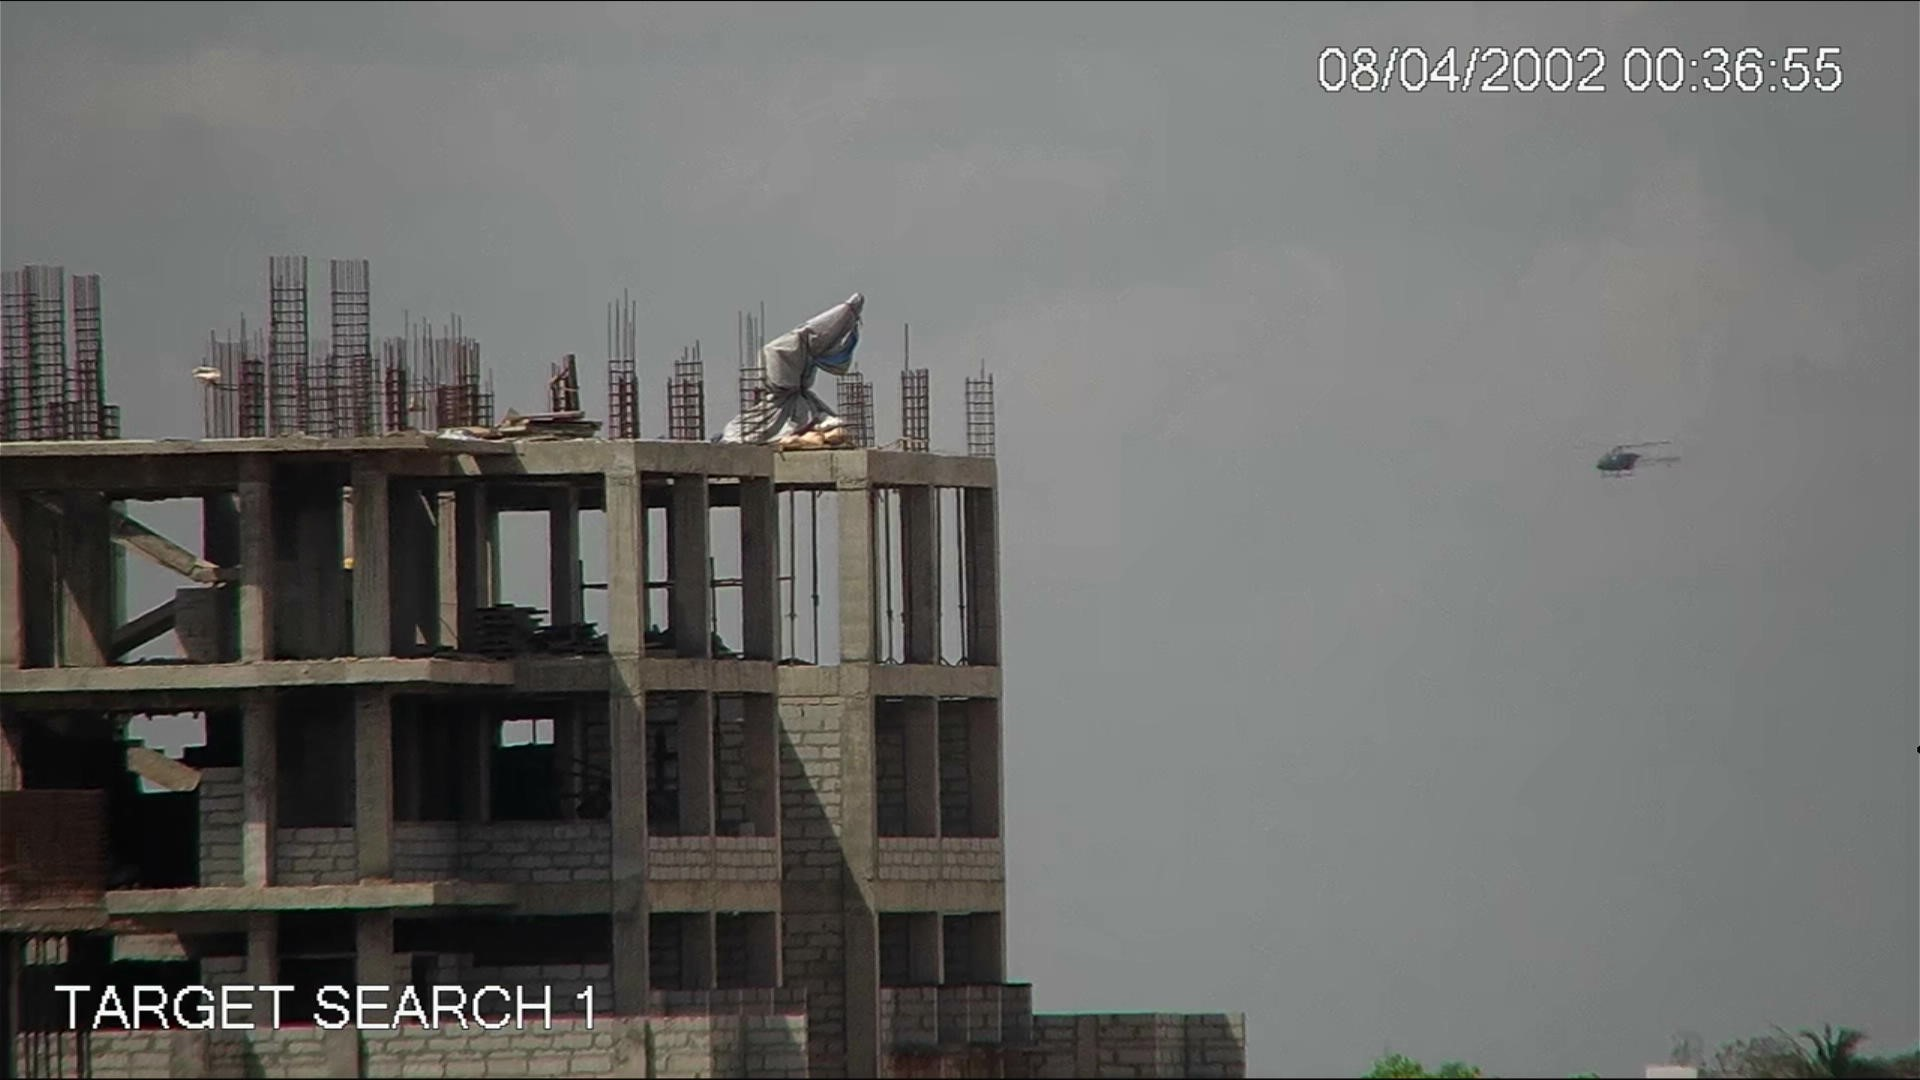SU_30: (1586, 439, 1683, 476)
